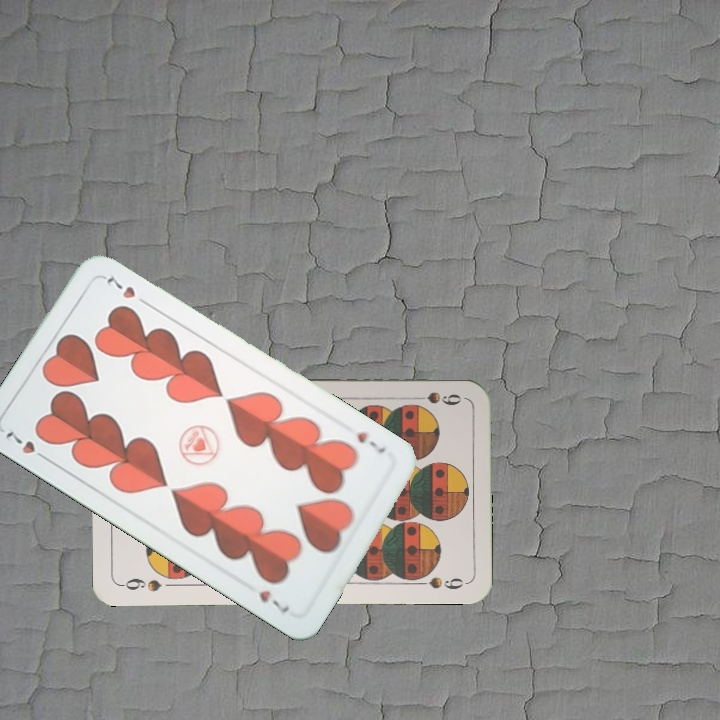H7: (1, 427, 53, 465), (352, 427, 388, 456)
S9: (406, 388, 464, 408), (117, 573, 164, 594)
